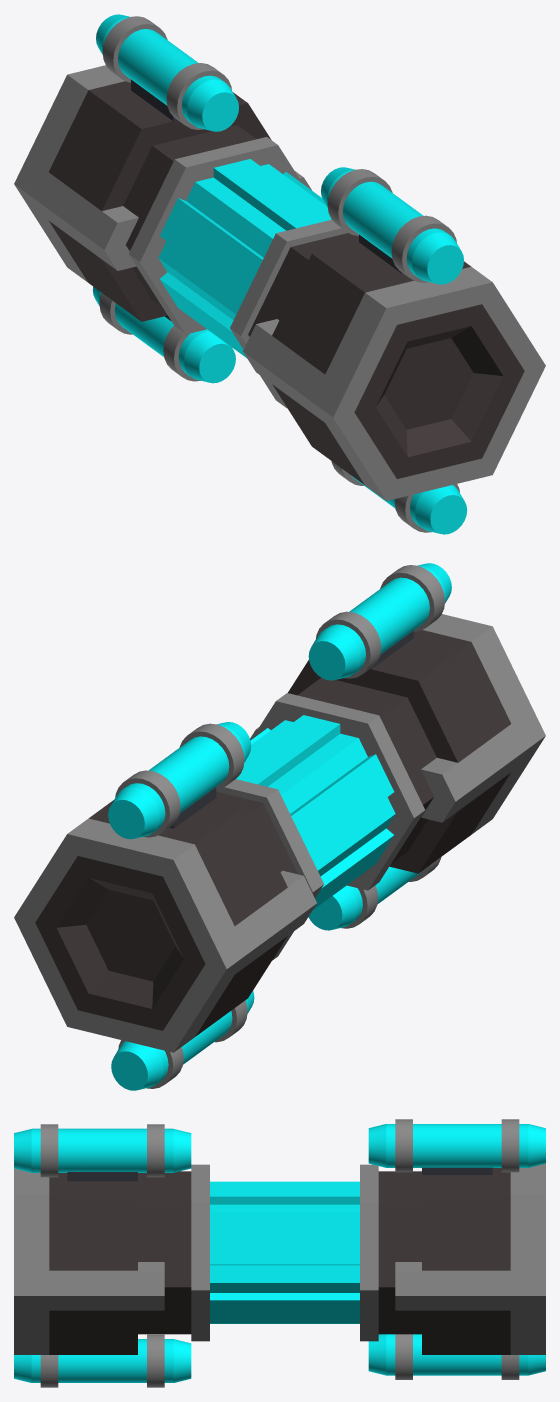
Rendered from coolant_pipe_full.fbx.
The picture shows the model from 3 angles, top to bottom: view 1: azimuth 30°, elevation 25°; view 2: azimuth 150°, elevation 25°; view 3: azimuth 270°, elevation 25°; orthographic projection. The views are drawn at different scales.
Visible parts, largest first — view 1: engine_turbineLarge% (×2), clipBarrel_large, attachment_barrel (×4); view 2: engine_turbineLarge% (×2), attachment_barrel (×4), clipBarrel_large; view 3: engine_turbineLarge% (×2), attachment_barrel (×4), clipBarrel_large.
Boxes of the visible parts, <box> form: engine_turbineLarge% (×2): <box>14,65,545,500</box>; clipBarrel_large: <box>129,137,347,408</box>; attachment_barrel (×4): <box>92,14,467,534</box>; engine_turbineLarge% (×2): <box>14,614,545,1052</box>; attachment_barrel (×4): <box>108,563,451,1090</box>; clipBarrel_large: <box>216,693,424,960</box>; engine_turbineLarge% (×2): <box>14,1163,545,1354</box>; attachment_barrel (×4): <box>14,1119,545,1387</box>; clipBarrel_large: <box>191,1164,378,1341</box>.
Bounding box in the file's own units: 11.55 × 16 × 30.
